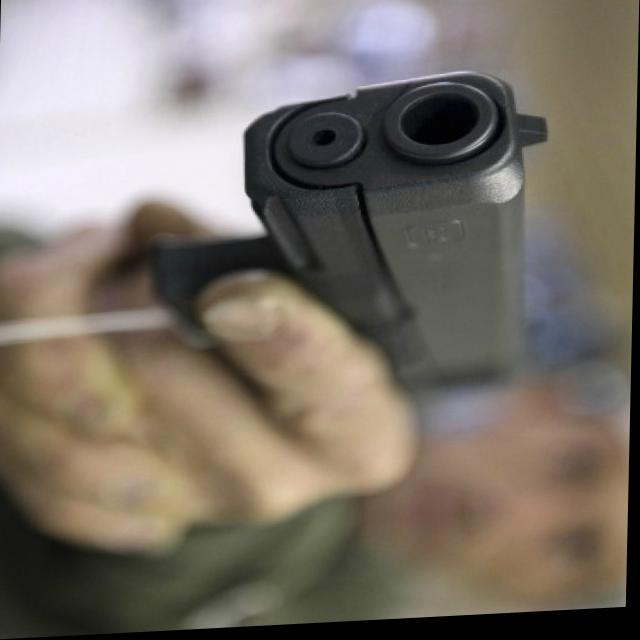handgun: (152, 69, 556, 402)
